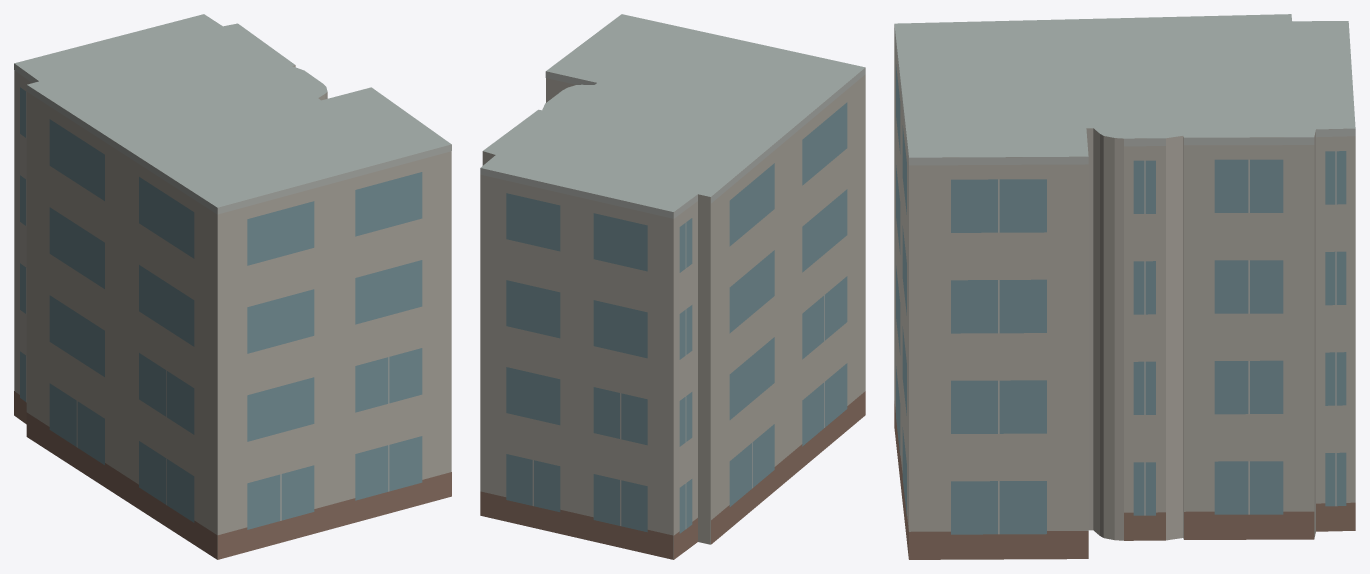
The model's file is survey-upis-32659472.glb.
The picture shows the model from 3 angles, left to right: view 1: azimuth 30°, elevation 25°; view 2: azimuth 150°, elevation 25°; view 3: azimuth 270°, elevation 25°; orthographic projection. The views are drawn at different scales.
Visible parts, largest first — view 1: survey-upis-32659472.tmp; view 2: survey-upis-32659472.tmp; view 3: survey-upis-32659472.tmp.
Boxes of the visible parts, x1,y1,x2,y2 form: survey-upis-32659472.tmp: (14, 14, 451, 559); survey-upis-32659472.tmp: (480, 14, 865, 559); survey-upis-32659472.tmp: (894, 14, 1355, 559).
Bounding box in the file's own units: 9.66 × 12.6 × 13.11.
